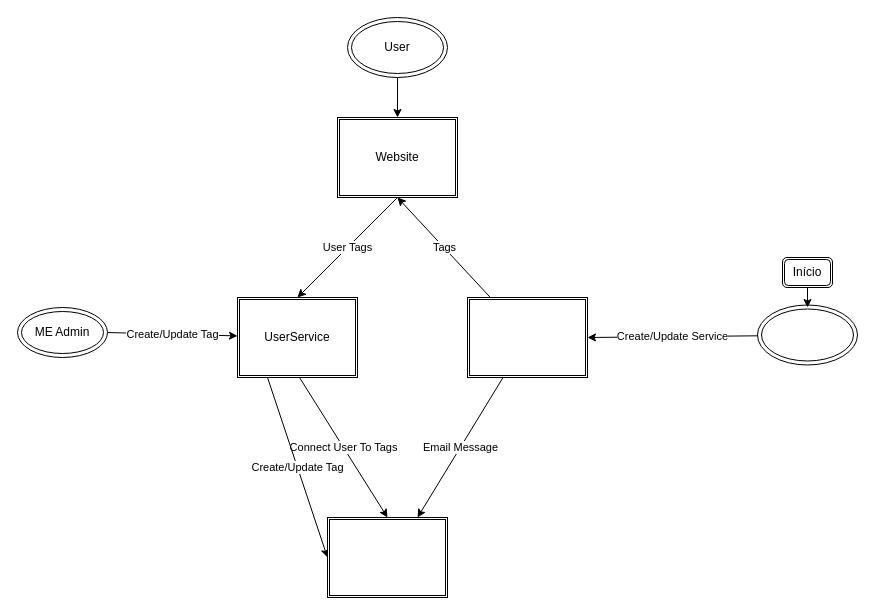
Some shapes in this 875 by 615 pixel diagram are drawn without their labels. The centre of each missing label's shape, as x and y in pixels:
Desenvolvedor: the point at 807,334
EconomicExpert: the point at 527,337
EmailService: the point at 387,557
